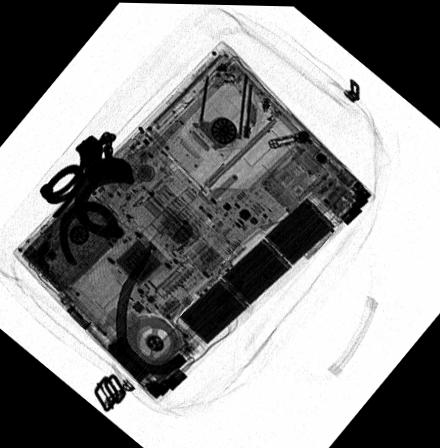HandCuffs: (36, 127, 133, 267)
